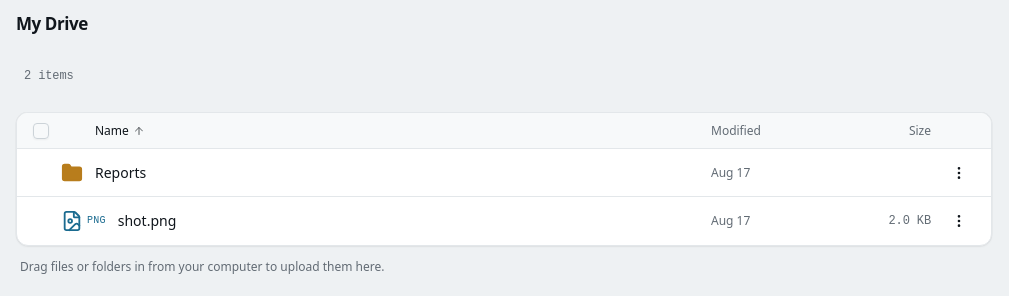
Scenario: opening a preview › walks into a folder from its name and never opens a viewer for one
Expected: the link "shot.png" is shown, [118,211,176,230]
Click the link "Reports" at (121, 172), box [95,163,146,182]
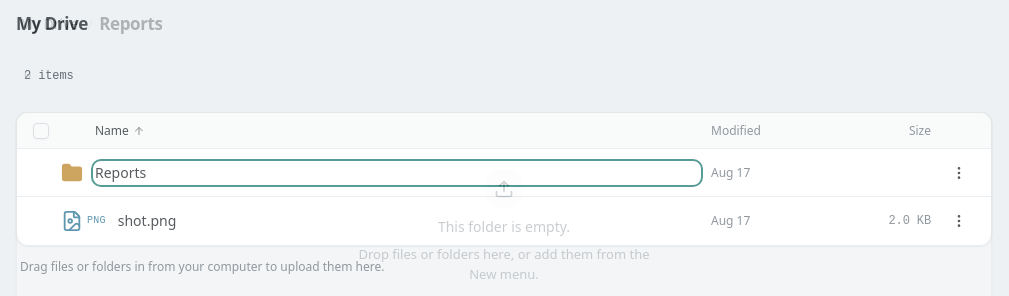
Expected: the text "This folder is empty." is shown, [438,217,570,237]
